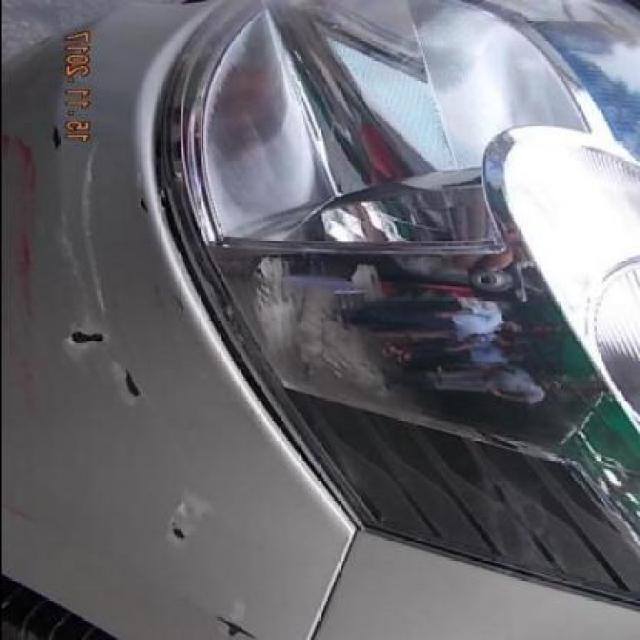damage: (5, 131, 36, 430), (54, 138, 102, 310), (53, 313, 115, 352), (205, 611, 256, 639), (111, 361, 147, 400), (168, 289, 190, 318), (161, 523, 192, 542), (42, 123, 62, 150), (128, 195, 152, 214)
